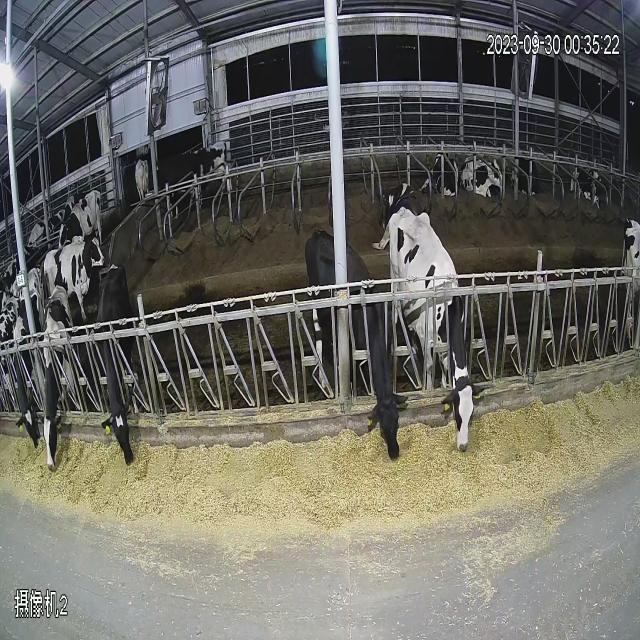feeding: (306, 206, 498, 476), (10, 269, 160, 521)
lying down: (359, 105, 622, 252)
standing: (126, 140, 242, 220)
